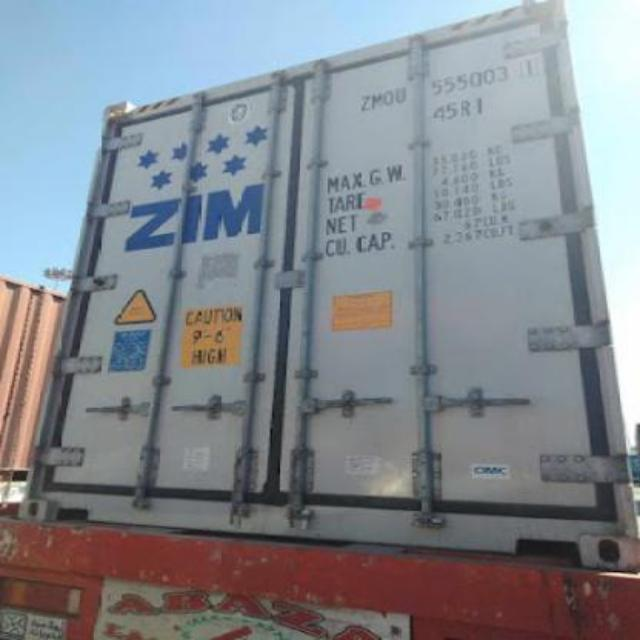0: (480, 66, 496, 88), (470, 70, 482, 88)
1: (522, 60, 540, 80)
3: (498, 64, 512, 86)
5: (442, 76, 458, 94), (456, 73, 472, 91), (430, 78, 442, 96)
M: (371, 92, 384, 110)
O: (386, 90, 394, 106)
U: (392, 87, 410, 103)
Z: (358, 94, 372, 114)
